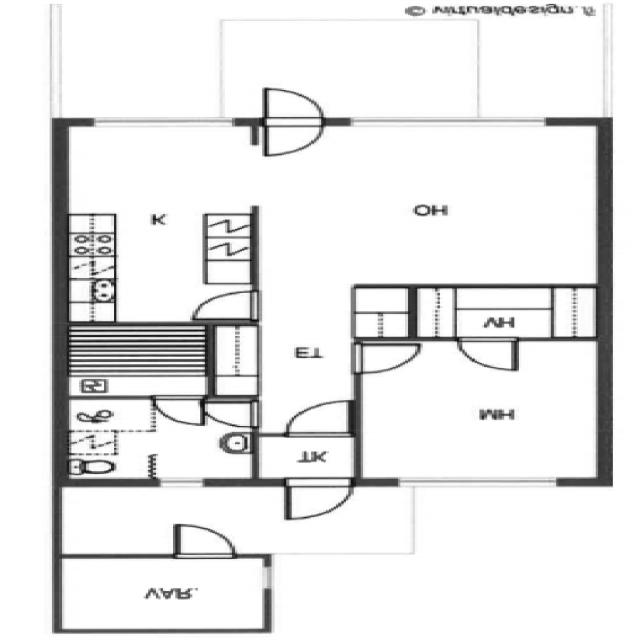door: (58, 394, 258, 483), (252, 86, 327, 158), (276, 474, 358, 525), (161, 520, 248, 563), (279, 397, 359, 439), (344, 339, 425, 377), (183, 287, 265, 323), (452, 335, 523, 375), (144, 392, 214, 430), (193, 395, 263, 432)
window: (334, 111, 556, 133), (382, 472, 571, 492), (75, 111, 243, 132), (149, 474, 216, 492), (252, 563, 282, 595)
zone: (254, 120, 606, 287), (58, 120, 256, 322), (359, 339, 606, 481), (58, 395, 255, 484), (51, 556, 271, 634), (58, 324, 214, 396), (406, 286, 604, 339), (256, 436, 362, 480)
